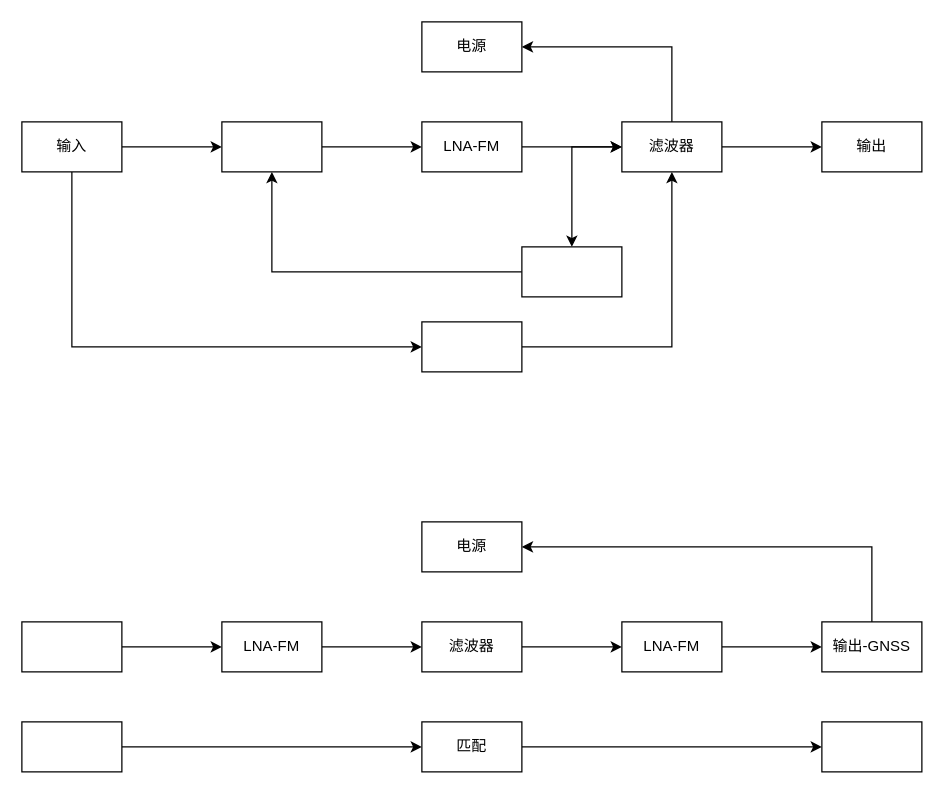
The diagram is 944 pixels wide and 794 high, and some of its shapes have lost their labels. The box of each missing label's shape, as (x1, y1, x2, y2) in pixels:
4G天线: (21, 721, 122, 772)
GNSS天线: (21, 621, 122, 672)
LNA-AM: (421, 321, 522, 372)
检波: (521, 246, 622, 297)
衰减器: (221, 121, 322, 172)
输出-4G: (821, 721, 922, 772)
